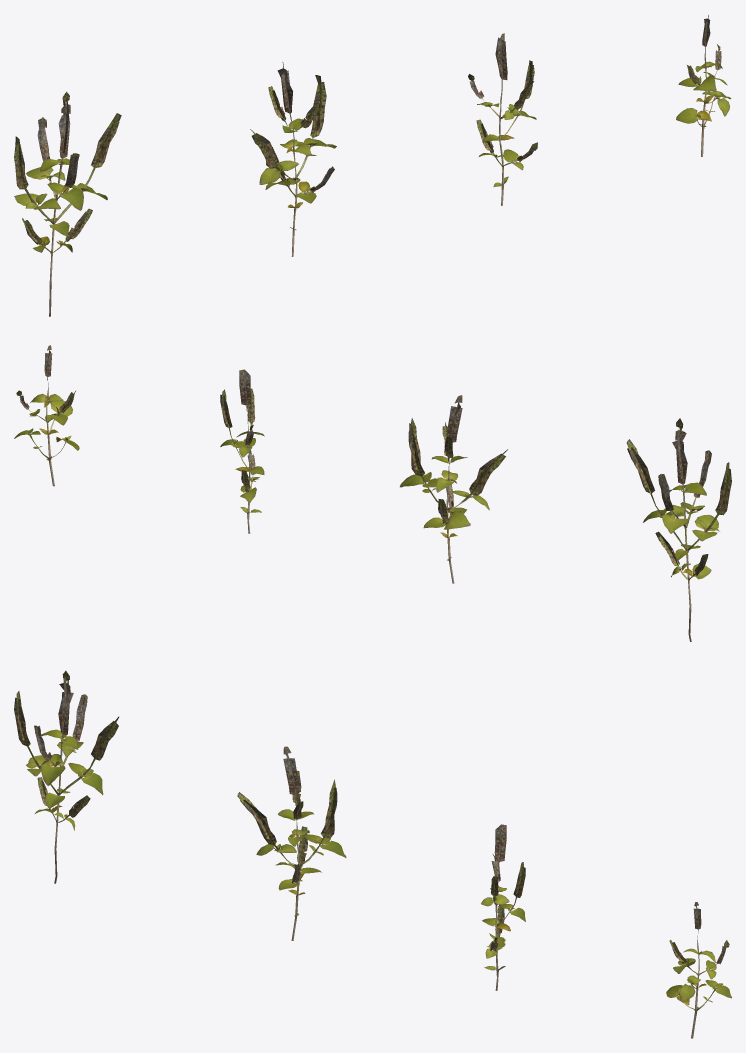
File: shrub_03.glb
3 renders of one model, top to bottom at view 1: azimuth 30°, elevation 25°; view 2: azimuth 150°, elevation 25°; view 3: azimuth 330°, elevation 25°, orthographic. The views are drawn at different scales.
Parts seen in each view (by area): view 1: shrub_03_a, shrub_03_b, shrub_03_c, shrub_03_d; view 2: shrub_03_a, shrub_03_b, shrub_03_c, shrub_03_d; view 3: shrub_03_a, shrub_03_b, shrub_03_c, shrub_03_d.
Boxes of the visible parts, box(x1,y1,x2,y2) form: shrub_03_a: box(14, 91, 121, 316); shrub_03_b: box(250, 62, 336, 256); shrub_03_c: box(468, 33, 537, 205); shrub_03_d: box(676, 15, 731, 156); shrub_03_a: box(626, 418, 731, 641); shrub_03_b: box(400, 395, 507, 583); shrub_03_c: box(220, 369, 264, 533); shrub_03_d: box(14, 345, 79, 486); shrub_03_a: box(14, 670, 118, 883); shrub_03_b: box(237, 746, 346, 940); shrub_03_c: box(481, 824, 525, 990); shrub_03_d: box(666, 902, 731, 1038).
Bounding box in the file's own units: 1.37 × 0.4028 × 0.1512.
1 material, 1 textured.
